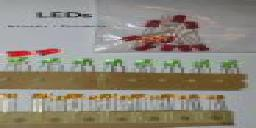LED: (99, 56, 128, 70), (30, 91, 50, 110), (132, 58, 154, 70)
